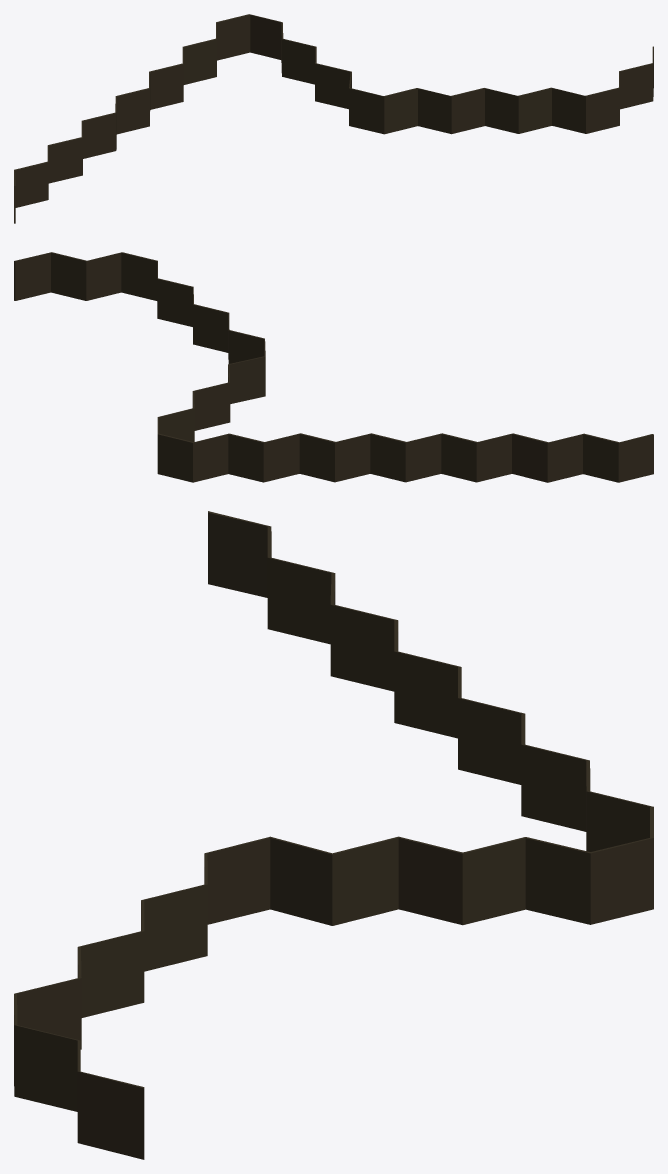
Rendered from Stage1OuterWallsSeeable2.fbx.
The picture shows the model from 3 angles, top to bottom: view 1: azimuth 30°, elevation 25°; view 2: azimuth 150°, elevation 25°; view 3: azimuth 270°, elevation 25°; orthographic projection. The views are drawn at different scales.
Parts seen in each view (by area): view 1: OuterWallsSeeable2; view 2: OuterWallsSeeable2; view 3: OuterWallsSeeable2.
Boxes of the visible parts, x1,y1,x2,y2 form: OuterWallsSeeable2: (14,14,653,223); OuterWallsSeeable2: (14,252,653,482); OuterWallsSeeable2: (14,511,653,1159).
Bounding box in the file's own units: 172 × 9.94 × 80.6.
